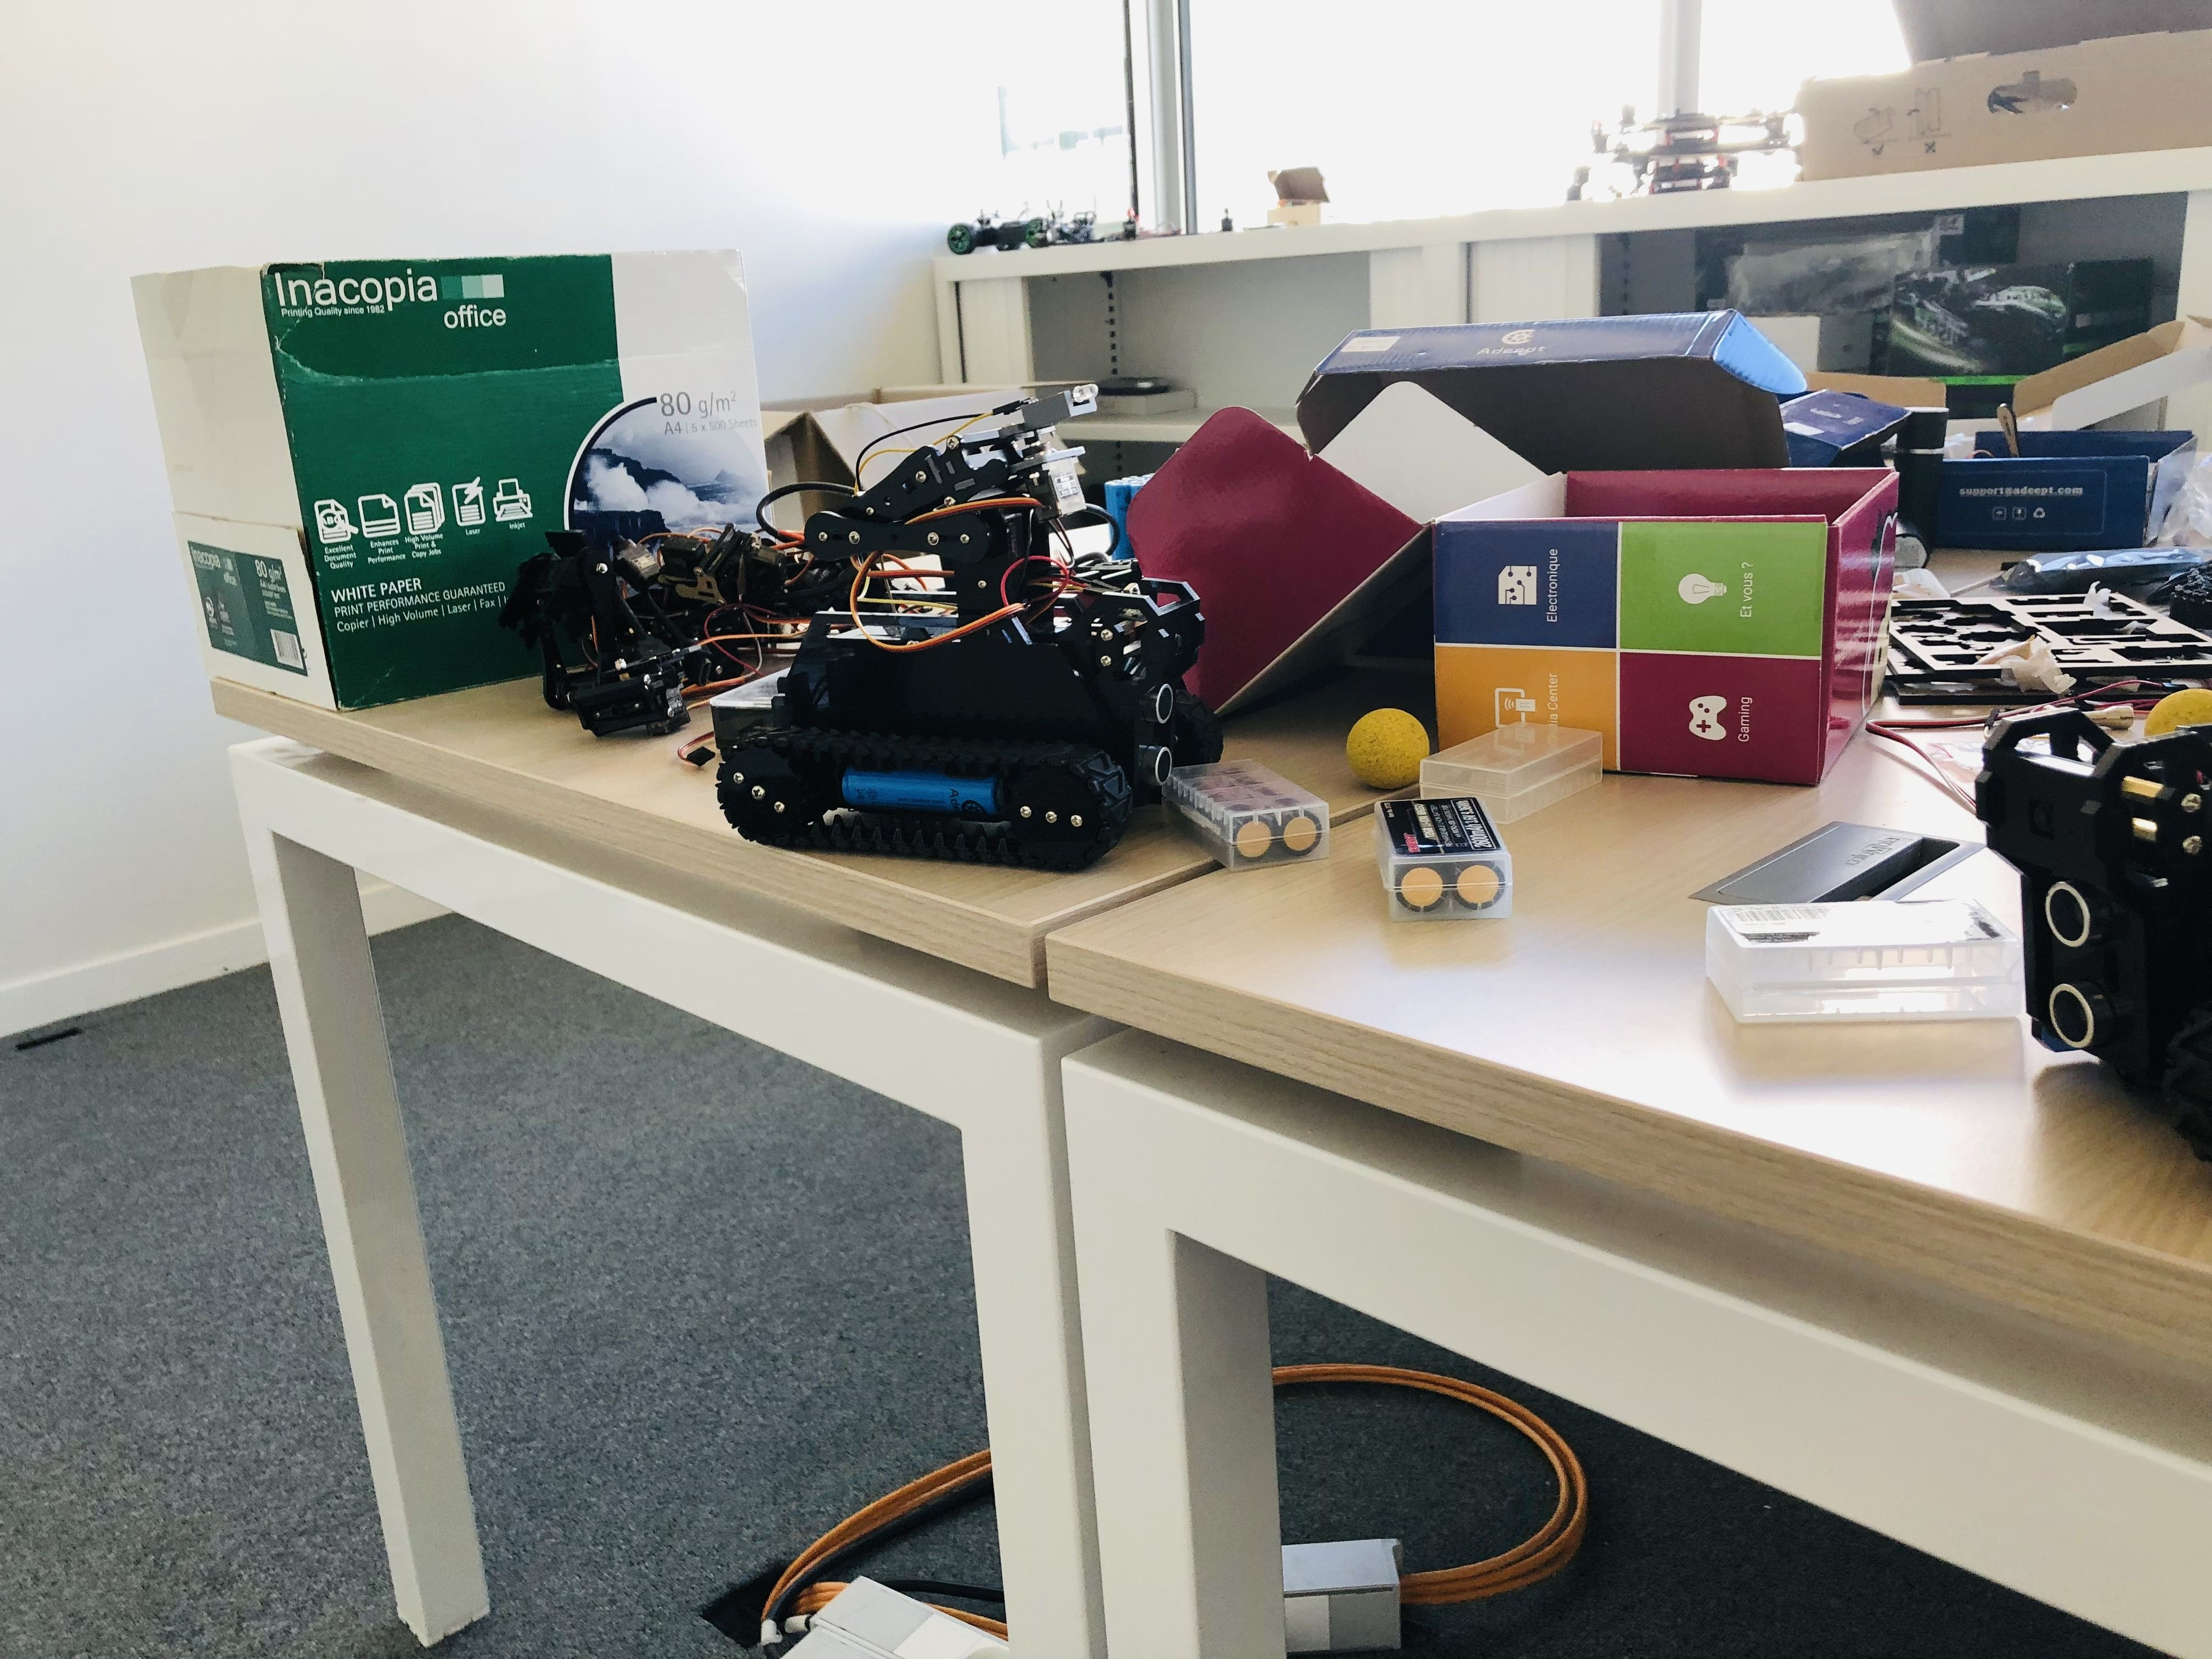rasptank: (711, 378, 1226, 870)
